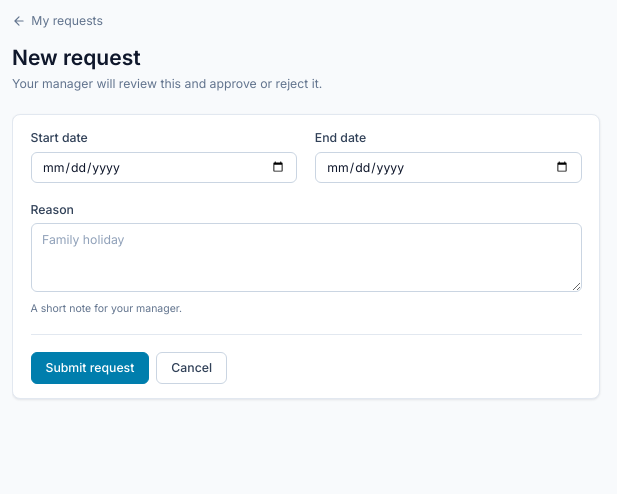
Test: NewRequestPage › reports a server-side rejection without losing what was typed
The image size is (617, 494).
In the date field labelled "Start date": coordinates (164, 167) [30, 152, 297, 183], type "2099-01-01"
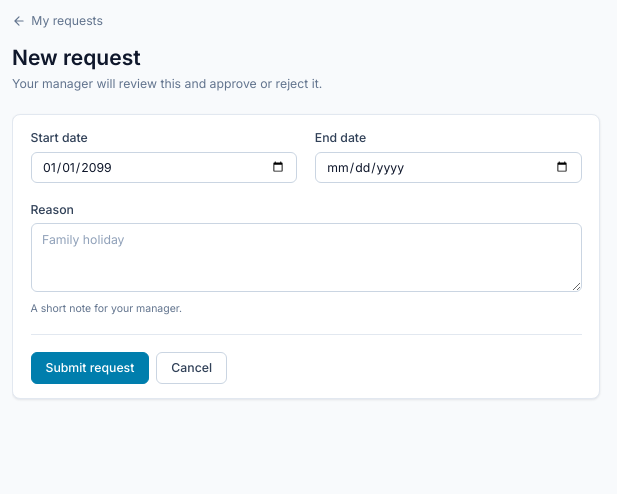
In the date field labelled "End date": coordinates (448, 167) [315, 152, 582, 183], type "2099-01-02"
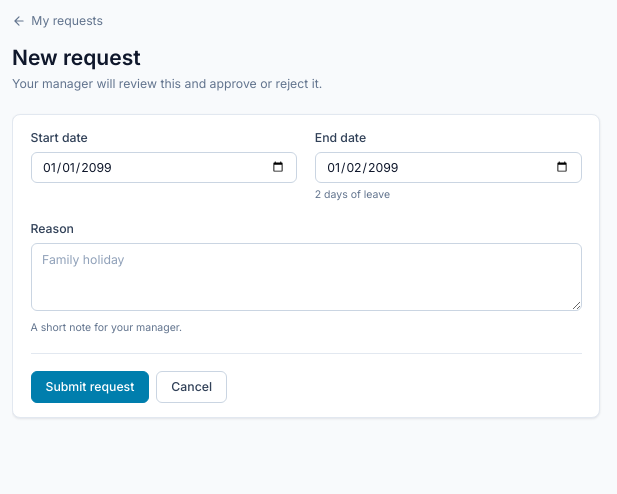
In the text box labelled "Reason": coordinates (306, 277) [30, 242, 582, 311], type "Future trip"
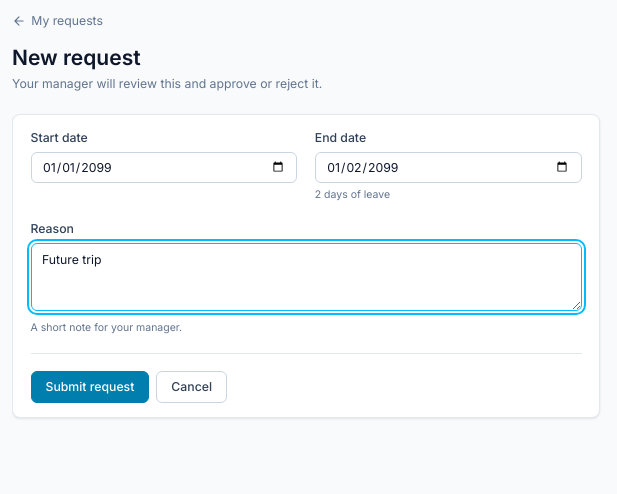
Click the button "Submit request": coordinates (90, 387) [30, 371, 149, 403]
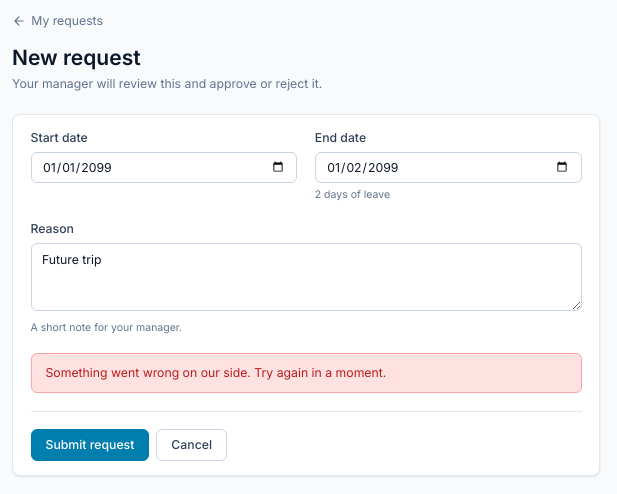
Expected: the button "Submit request" is enabled, [30, 429, 149, 461]
Now the text "Something went wrong on our side. Try again in a moment." is shown, box [46, 365, 386, 380]
